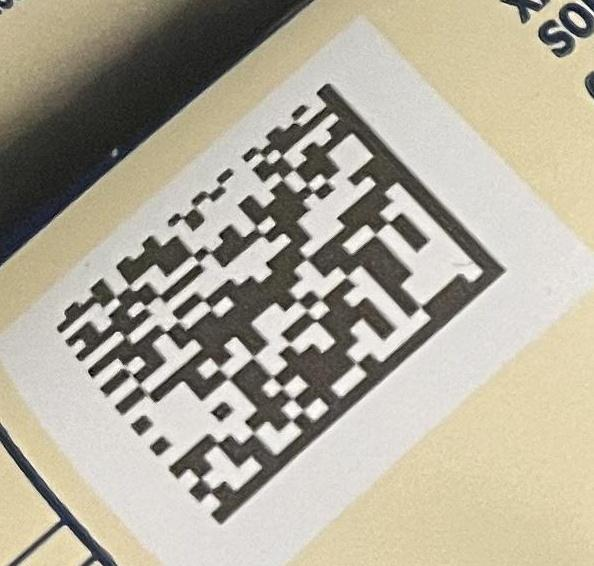datamatrix: (56, 83, 505, 523)
